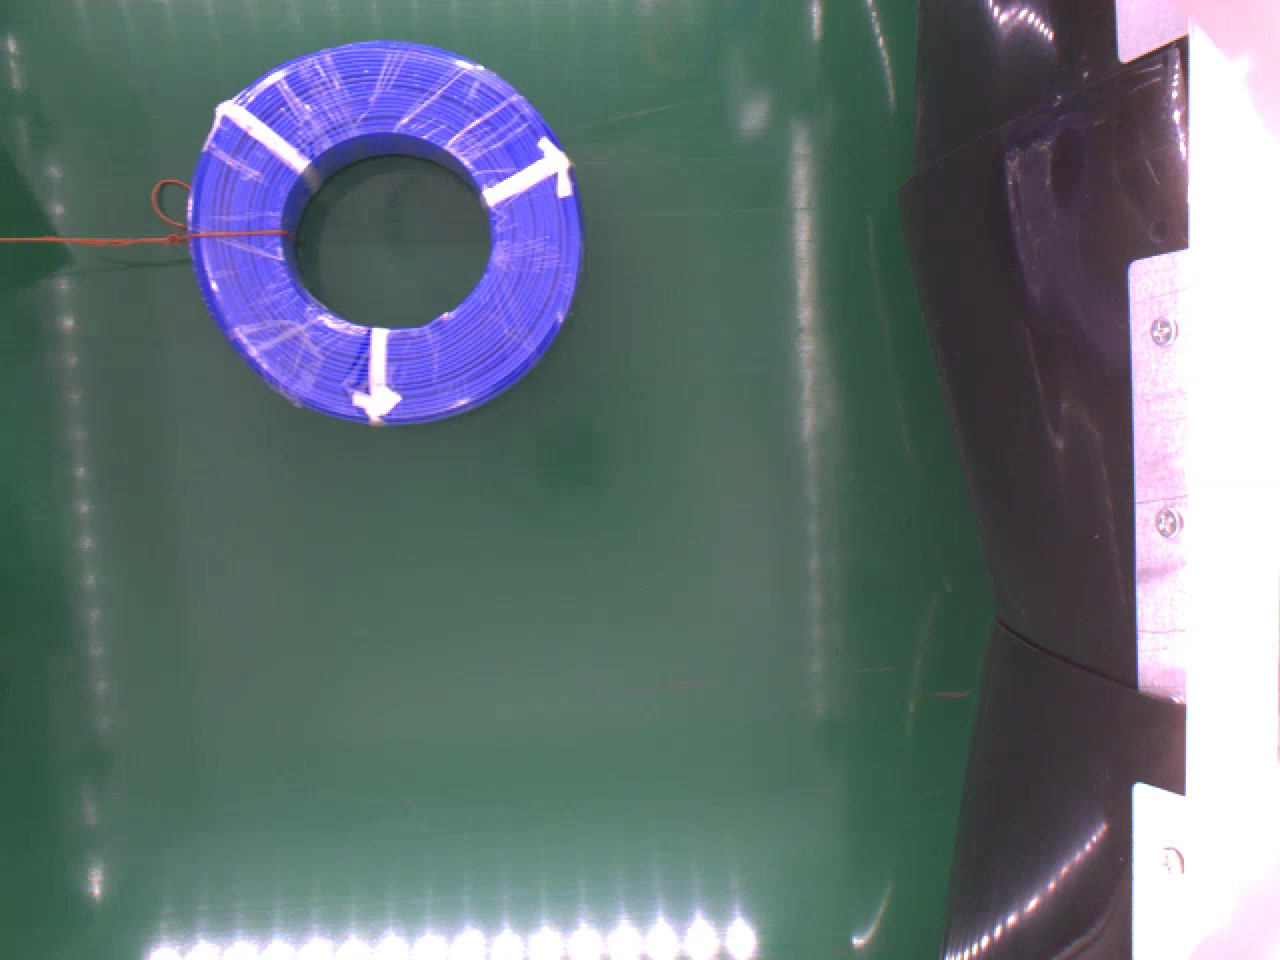blue: (190, 41, 585, 427)
